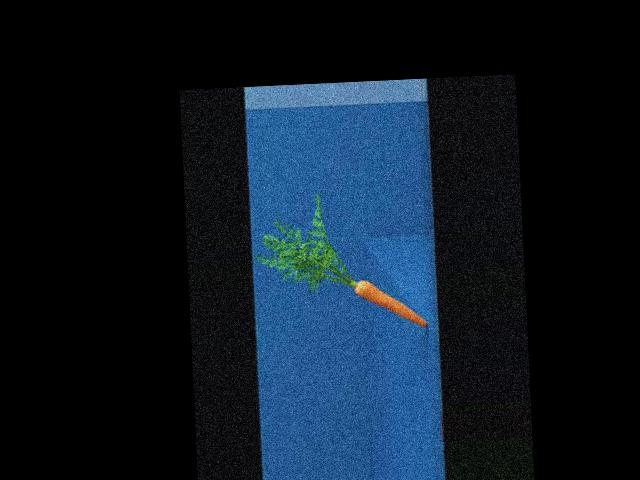carrot: (346, 257, 436, 337)
